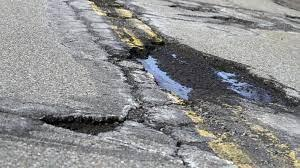crack: (110, 58, 188, 168), (63, 1, 114, 55)
pothole: (131, 43, 293, 110), (42, 115, 125, 134), (216, 15, 251, 26), (284, 13, 300, 20)
